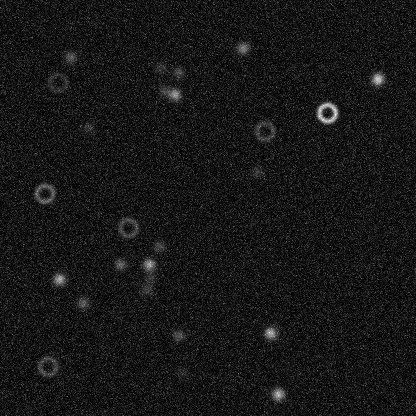Ring: (45, 70, 69, 94), (32, 181, 56, 205), (315, 100, 339, 124), (35, 354, 59, 378), (116, 215, 140, 239), (252, 118, 276, 142)
Spot: (152, 59, 168, 75), (166, 86, 182, 102), (112, 256, 128, 272), (138, 281, 154, 297), (80, 119, 96, 135), (74, 294, 90, 310), (249, 164, 265, 180), (269, 386, 285, 402), (234, 40, 250, 56), (174, 363, 190, 379), (170, 327, 186, 343), (51, 271, 67, 287), (140, 256, 156, 272), (262, 324, 278, 340), (151, 237, 167, 253), (170, 64, 186, 80), (156, 82, 172, 98), (142, 268, 158, 284), (62, 48, 78, 64), (369, 70, 385, 86)
